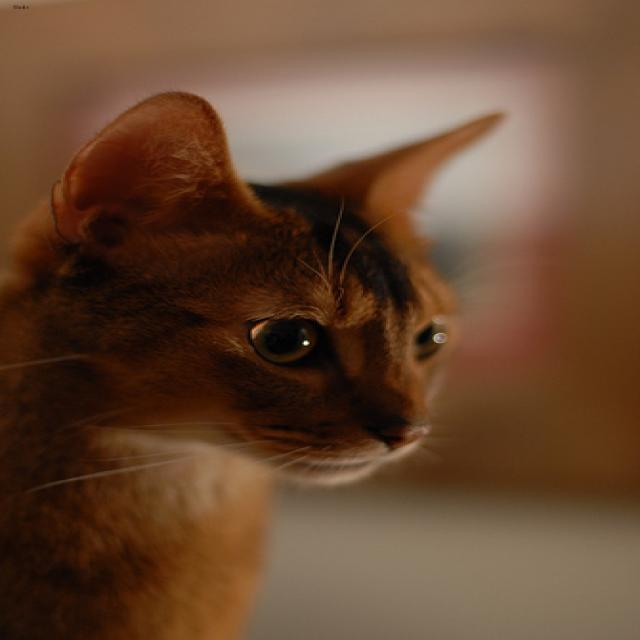Abyssinian: (14, 90, 519, 493)
